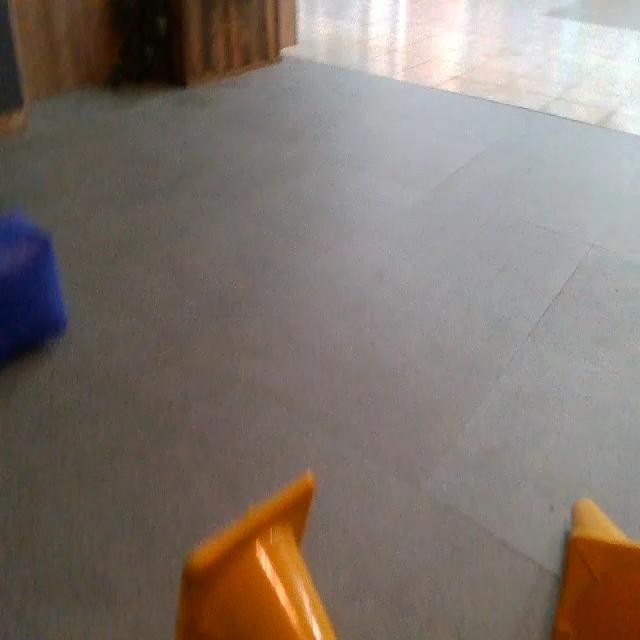cone: (170, 473, 342, 640), (547, 498, 640, 636)
cube: (0, 206, 71, 368)
